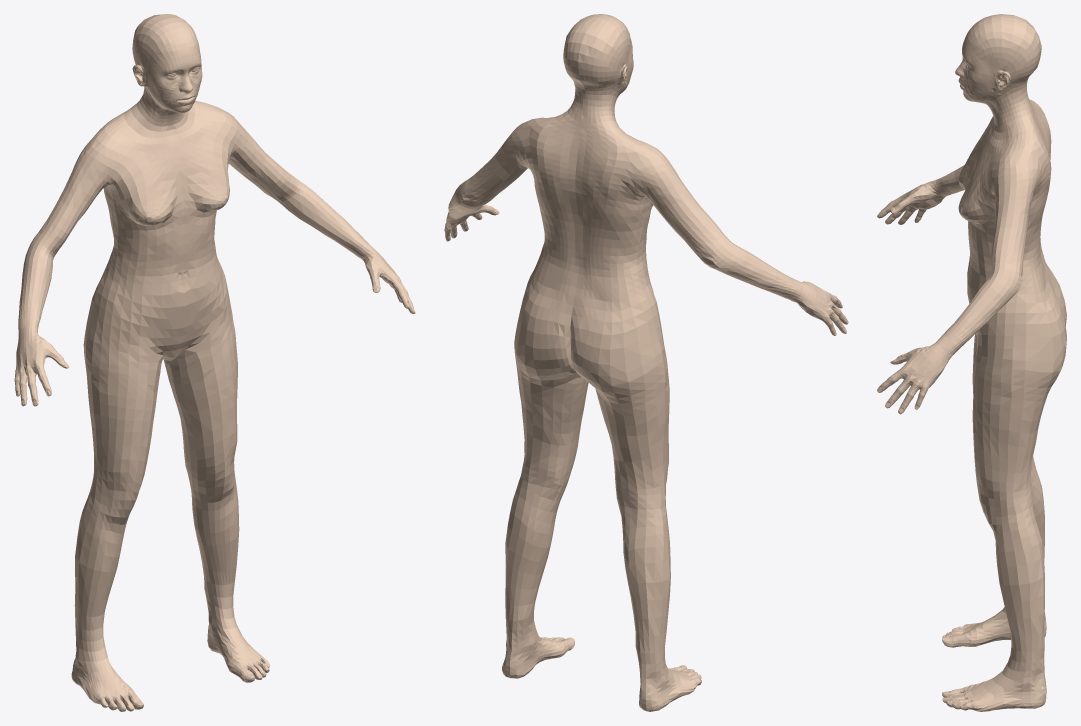
The model's file is female-mature-average-toned.glb.
3 renders of one model, left to right at view 1: azimuth 30°, elevation 25°; view 2: azimuth 150°, elevation 25°; view 3: azimuth 270°, elevation 25°, orthographic.
Parts seen in each view (by area): view 1: world; view 2: world; view 3: world.
Boxes of the visible parts, left/top/right/bottom form: world: left=14, top=14, right=415, bottom=711; world: left=444, top=14, right=848, bottom=711; world: left=877, top=14, right=1066, bottom=711.
Size of the model in its own units: 1.12 by 1.81 by 0.474.
